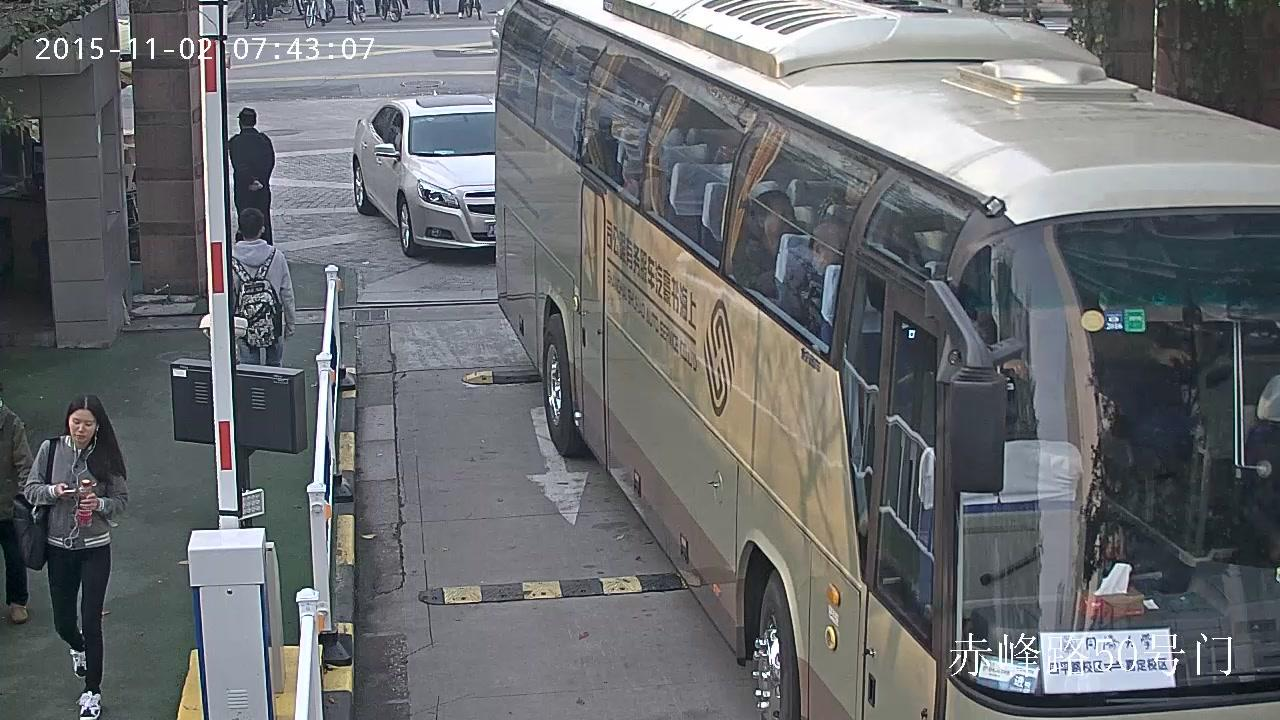face: (765, 200, 795, 237), (823, 227, 850, 263), (69, 409, 95, 444), (849, 179, 866, 203)
